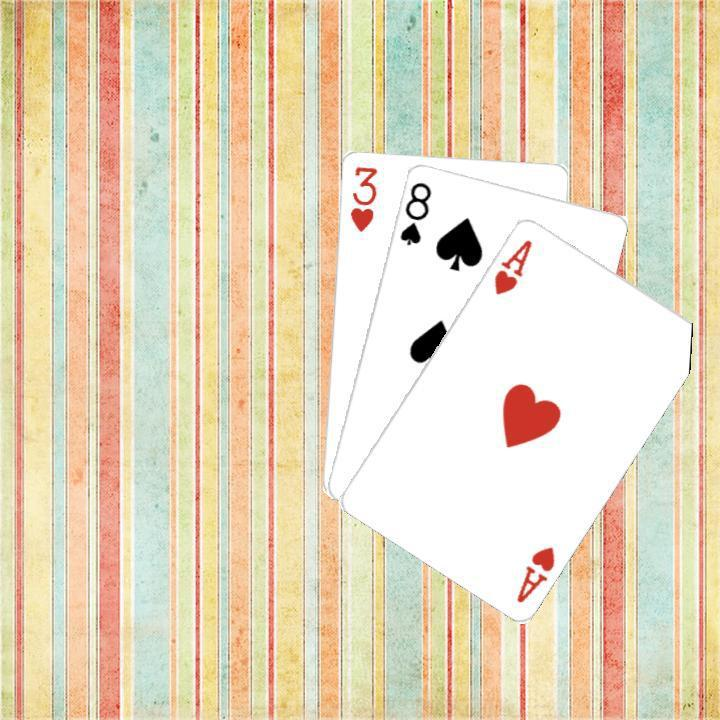3: (345, 162, 379, 233)
8: (395, 177, 433, 248)
A: (511, 541, 557, 605), (489, 234, 534, 297)
